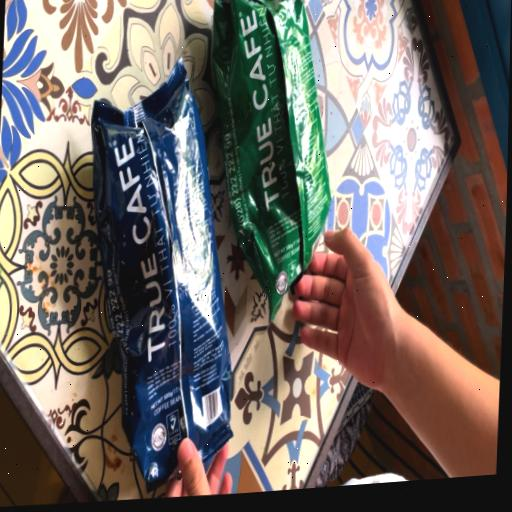cafe_hat: (91, 59, 232, 486)
cafe_xay: (211, 0, 330, 322)
